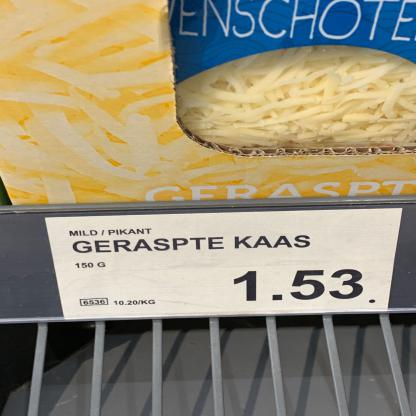prtg: (45, 209, 404, 321)
